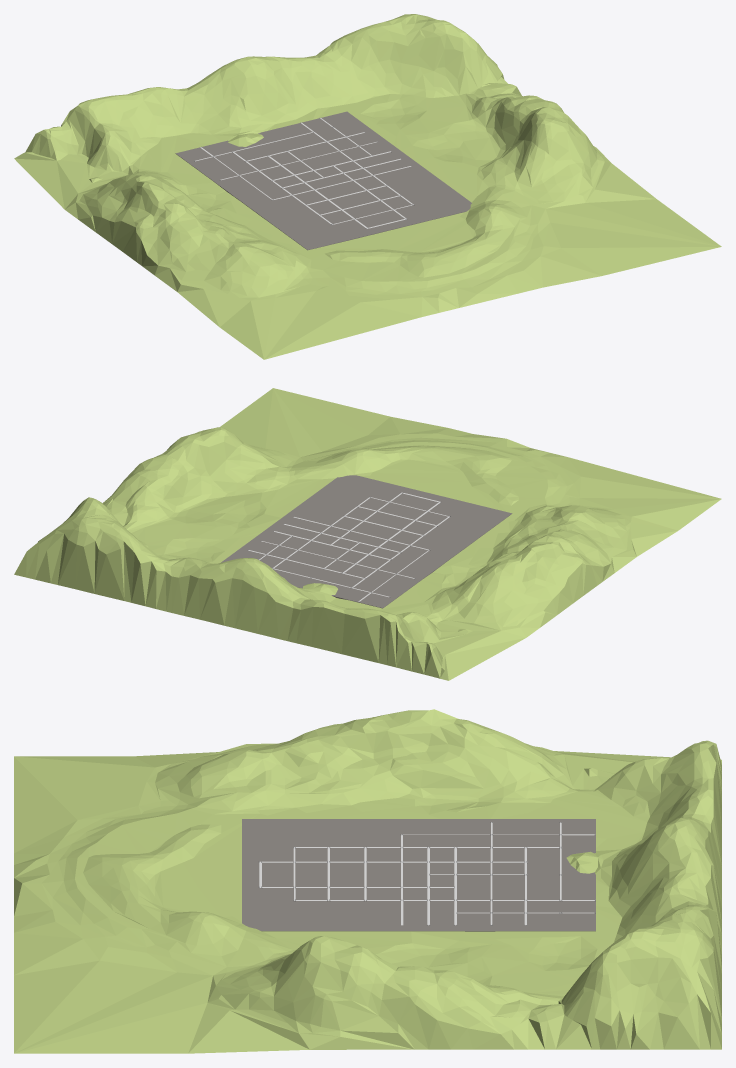
Rendered from Terrain-and-Streets.FBX.
The picture shows the model from 3 angles, top to bottom: view 1: azimuth 30°, elevation 25°; view 2: azimuth 150°, elevation 25°; view 3: azimuth 270°, elevation 25°; orthographic projection. The views are drawn at different scales.
Visible parts, largest first — view 1: World Terrain, CITY-GROUND, CITY STREETS; view 2: World Terrain, CITY-GROUND, CITY STREETS; view 3: World Terrain, CITY-GROUND, CITY STREETS.
Part boxes in pixels (box(x1,y1,x2,y2)): World Terrain: box(14, 14, 721, 359); CITY-GROUND: box(175, 111, 471, 250); CITY STREETS: box(195, 118, 413, 228); World Terrain: box(14, 388, 721, 680); CITY-GROUND: box(221, 475, 512, 608); CITY STREETS: box(248, 492, 449, 601); World Terrain: box(14, 709, 721, 1053); CITY-GROUND: box(242, 819, 595, 931); CITY STREETS: box(259, 822, 594, 925).
Size of the model in its own units: 10000 by 1430 by 10000.
